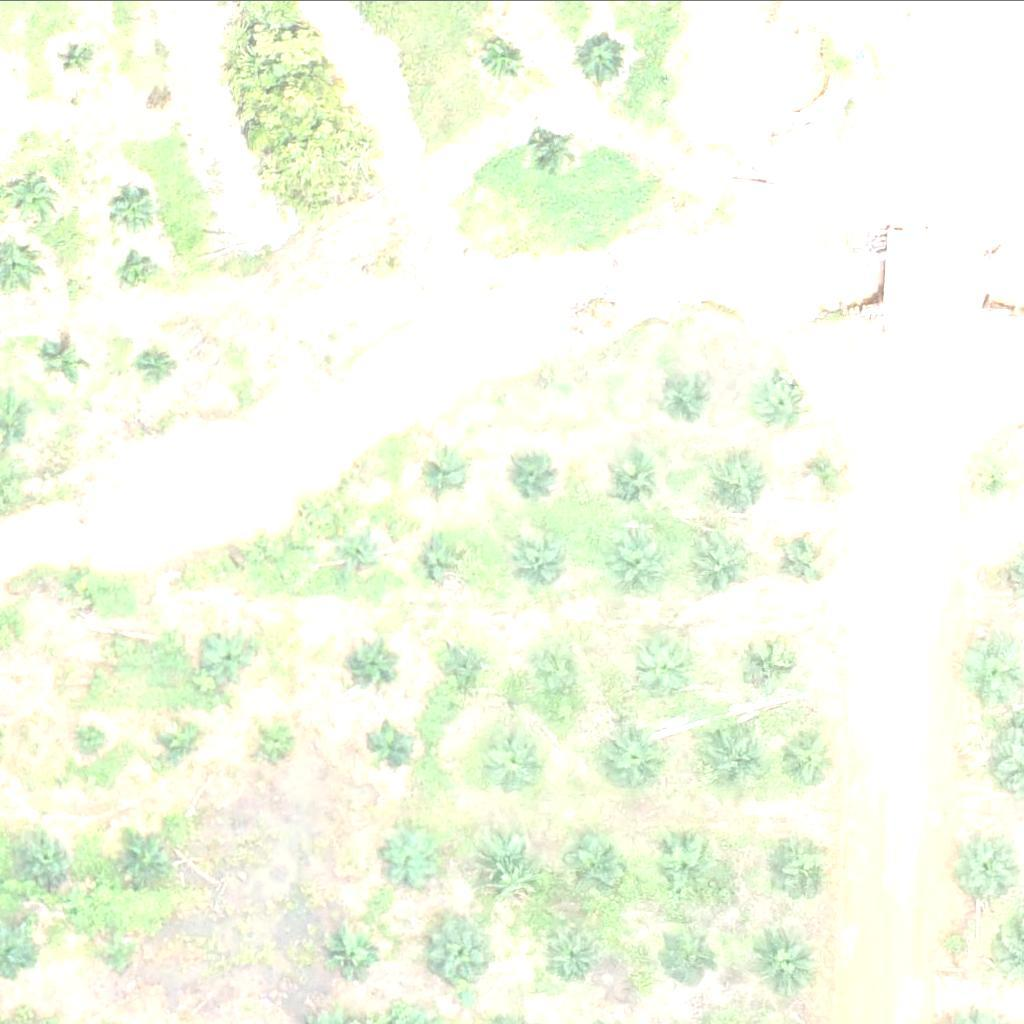Kelapa_Sawit: (536, 646, 599, 709), (512, 531, 575, 594), (329, 923, 392, 986), (429, 919, 492, 982), (756, 932, 819, 995), (609, 533, 672, 596), (654, 836, 717, 899), (761, 838, 824, 901), (661, 922, 724, 985), (778, 726, 841, 789), (959, 637, 1022, 700), (705, 446, 768, 509), (690, 532, 753, 595), (1, 166, 64, 229), (568, 836, 631, 898), (483, 725, 546, 787), (381, 826, 444, 888), (700, 723, 763, 785), (604, 726, 667, 788), (642, 637, 705, 699), (740, 632, 803, 694), (600, 447, 663, 509), (481, 830, 544, 892), (19, 830, 70, 880), (122, 831, 173, 881), (775, 532, 826, 582), (796, 446, 847, 496), (154, 720, 205, 770), (550, 932, 600, 982), (511, 443, 561, 493), (342, 636, 392, 686), (367, 718, 417, 768), (337, 529, 387, 579), (206, 630, 256, 680), (422, 533, 472, 583), (421, 447, 471, 497), (579, 34, 629, 84), (762, 375, 812, 425), (657, 365, 707, 415), (970, 453, 1020, 503), (475, 31, 525, 81), (531, 122, 581, 172), (446, 639, 496, 689), (109, 181, 159, 231), (244, 533, 282, 571), (255, 721, 293, 759), (45, 343, 83, 381), (136, 342, 174, 380), (119, 255, 157, 293), (96, 629, 134, 667), (56, 37, 94, 74), (58, 566, 96, 603), (98, 932, 136, 969), (77, 720, 114, 757)
